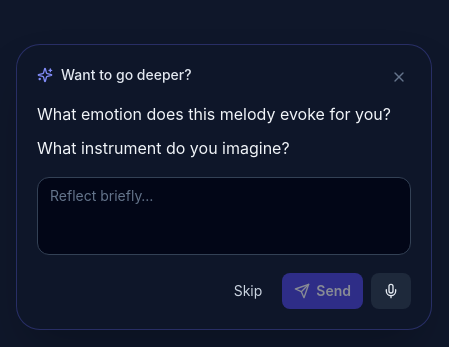
ShadowReaderPrompt — voice answer (FR-8.4 / Round 15) › transcribe failure shows error and preserves text input
Type "typed text" into the text box with placeholder "Reflect briefly…".
click(224, 216); type("typed text")  # box [37,177,411,255]
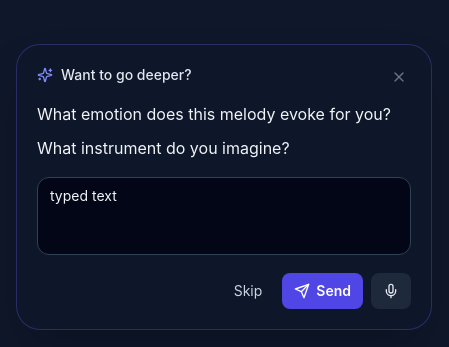
Click the button named "record voice answer".
click(391, 291)  # box [371,273,411,309]
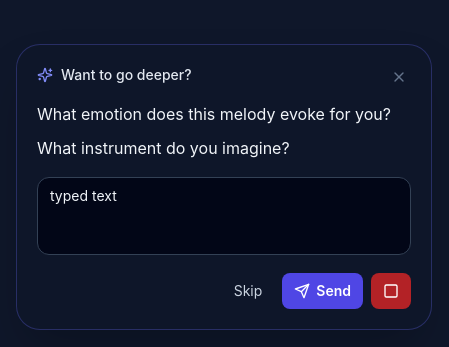
Click the button named "record voice answer".
click(391, 291)  # box [371,273,411,309]
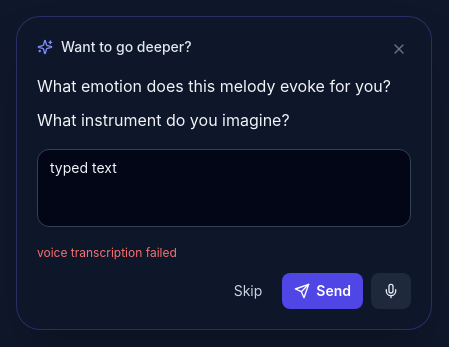
Expected: the message "voice transcription failed" is shown, [37,245,177,260]
